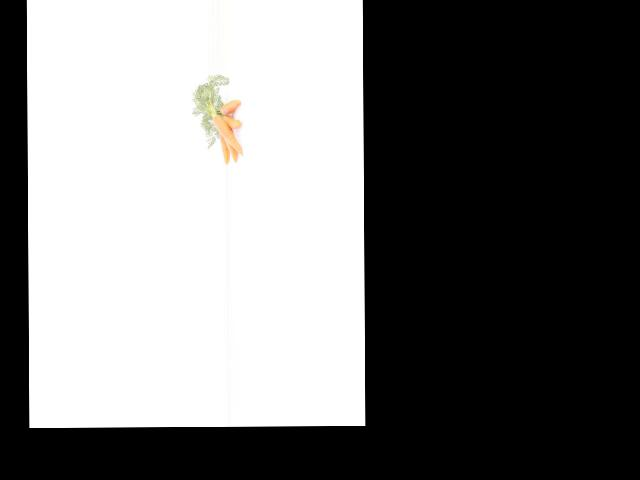carrot: (209, 109, 244, 155)
